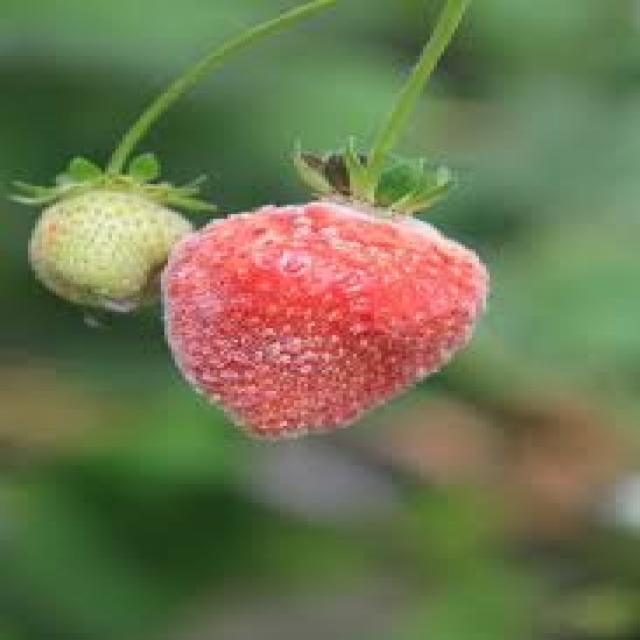Oído: (158, 205, 490, 440)
